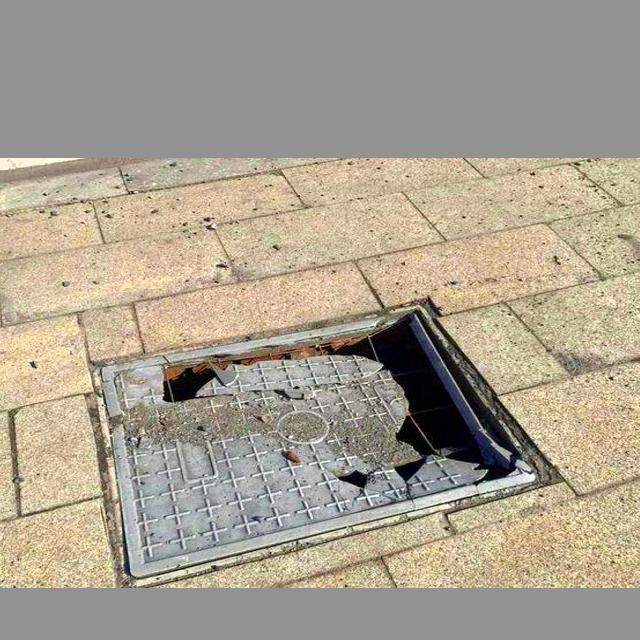broke: (99, 289, 565, 587)
